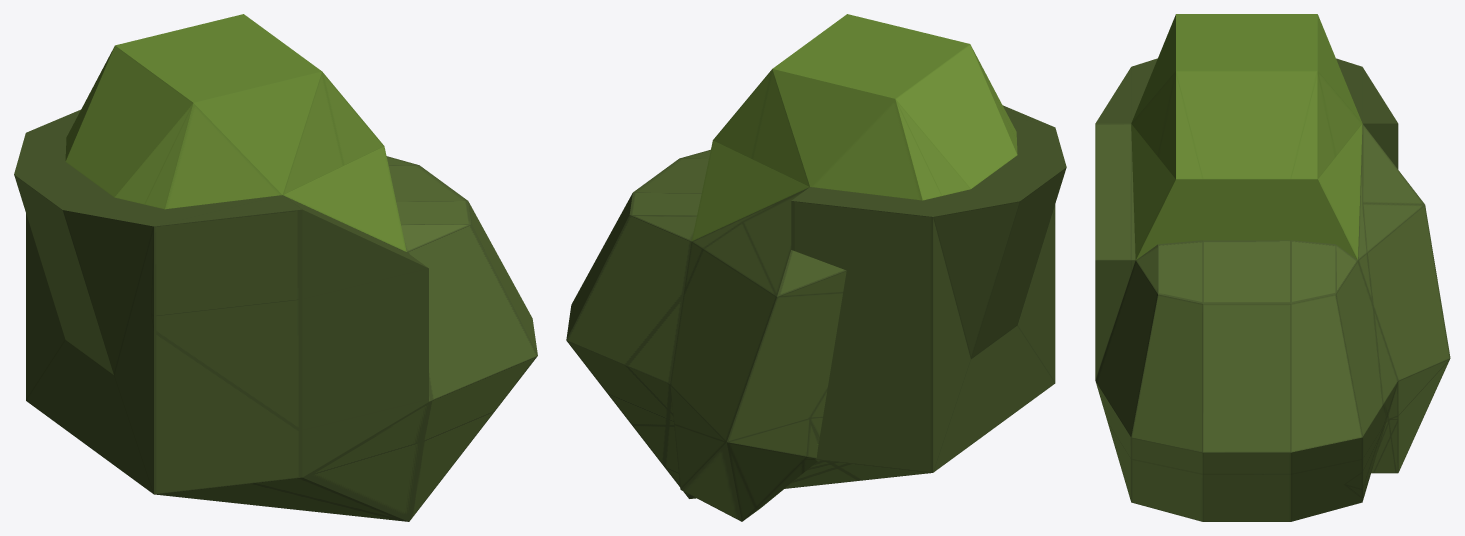
The model's file is LHand.fbx.
The picture shows the model from 3 angles, left to right: view 1: azimuth 30°, elevation 25°; view 2: azimuth 150°, elevation 25°; view 3: azimuth 270°, elevation 25°; orthographic projection. The views are drawn at different scales.
Visible parts, largest first — view 1: Shape_IndexedFaceSet.038, Shape_IndexedFaceSet.036, Shape_IndexedFaceSet.037; view 2: Shape_IndexedFaceSet.037, Shape_IndexedFaceSet.038, Shape_IndexedFaceSet.036; view 3: Shape_IndexedFaceSet.037, Shape_IndexedFaceSet.036, Shape_IndexedFaceSet.038.
Part boxes in pixels (box(x1,y1,x2,y2)): Shape_IndexedFaceSet.038: box(14, 109, 428, 494); Shape_IndexedFaceSet.036: box(65, 14, 406, 251); Shape_IndexedFaceSet.037: box(154, 156, 537, 521); Shape_IndexedFaceSet.037: box(566, 149, 931, 521); Shape_IndexedFaceSet.038: box(791, 105, 1066, 472); Shape_IndexedFaceSet.036: box(691, 14, 1017, 240); Shape_IndexedFaceSet.037: box(1095, 124, 1450, 521); Shape_IndexedFaceSet.036: box(1131, 14, 1362, 259); Shape_IndexedFaceSet.038: box(1095, 58, 1398, 380).
Size of the model in its own units: 0.1252 by 0.1163 by 0.0907.
